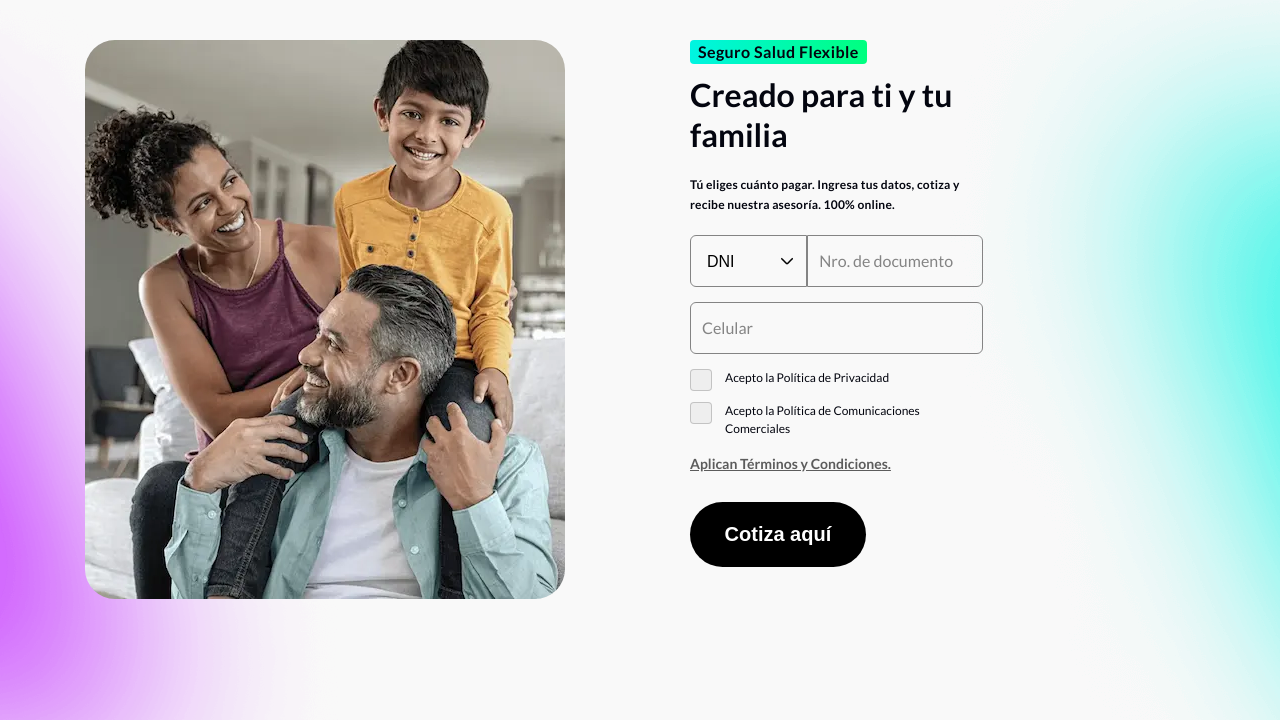
it: RegistrationForm › Validación del celular › debe mostrar error si el celular tiene menos de 9 dígitos al submit
Type "12345678" into the field labelled "Nro. de documento".
click(895, 261); type("12345678")  # box [807,235,983,287]
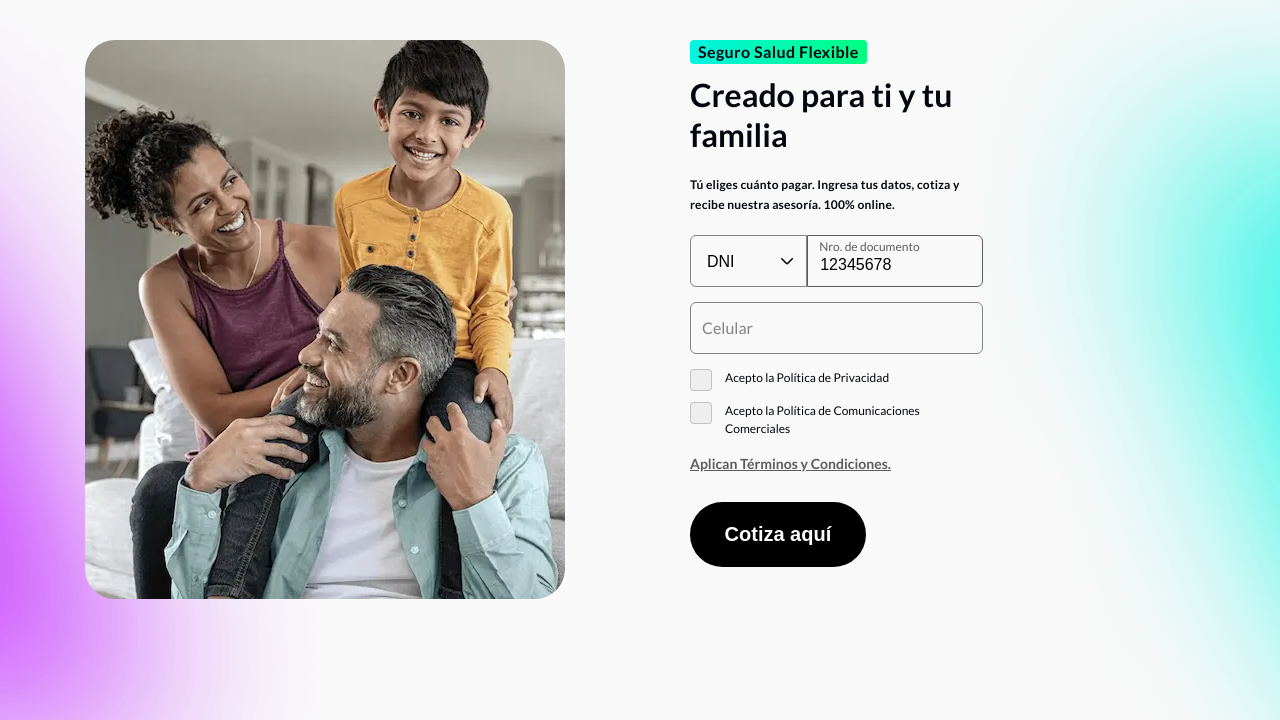
Type "98765432" into the field labelled "Celular".
click(836, 328); type("98765432")  # box [690,302,983,354]
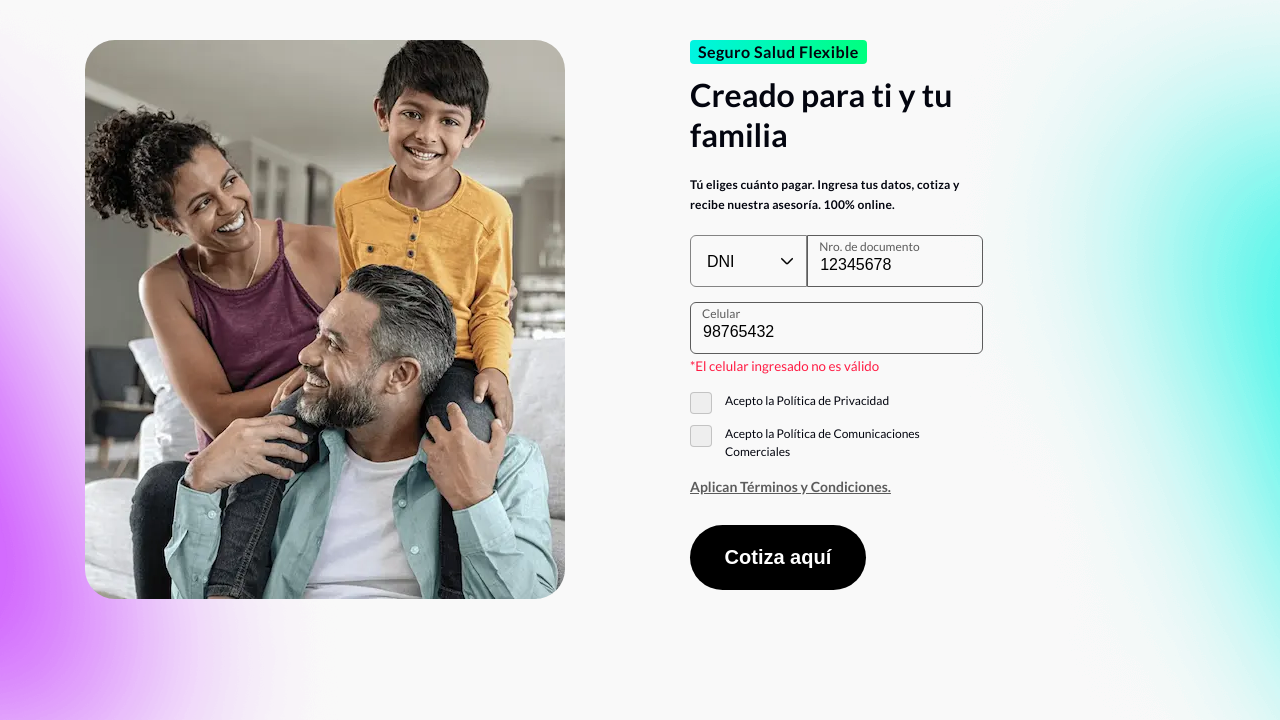
Click the checkbox labelled "Acepto la Política de Privacidad".
click(790, 403)  # box [690,392,889,414]
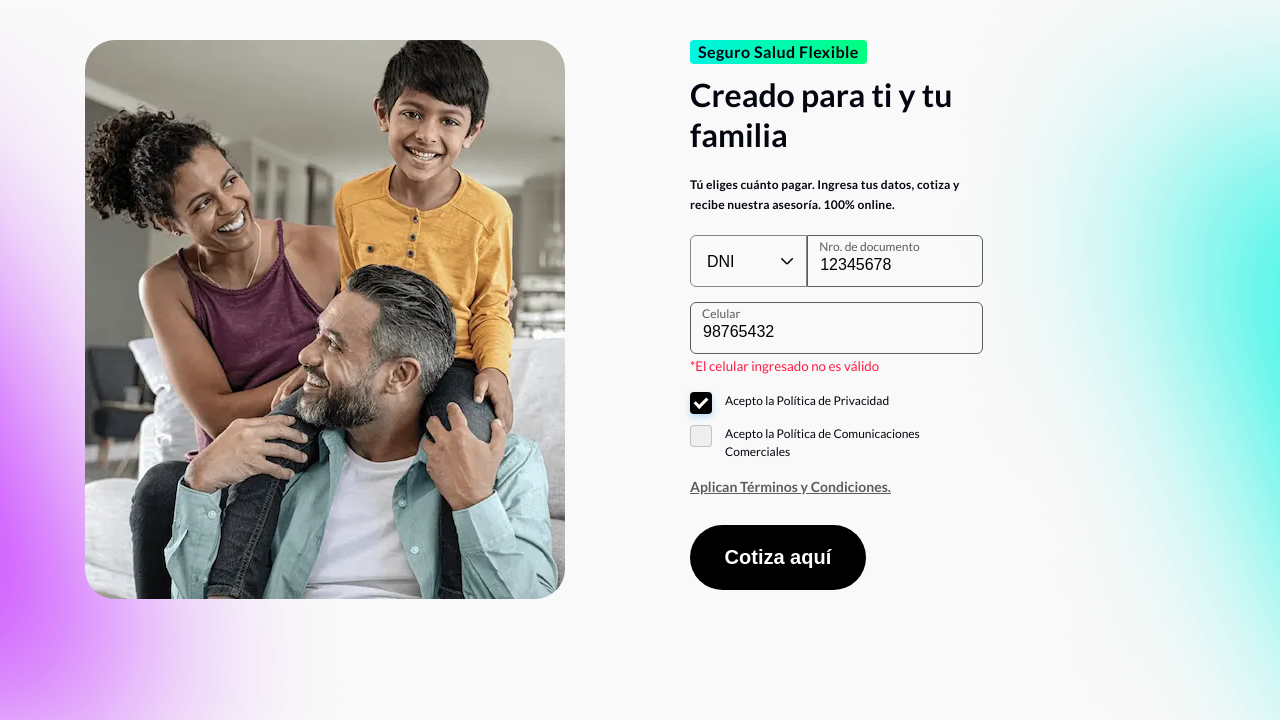
Click the checkbox labelled "Acepto la Política de Comunicaciones Comerciales".
click(805, 442)  # box [690,425,920,459]
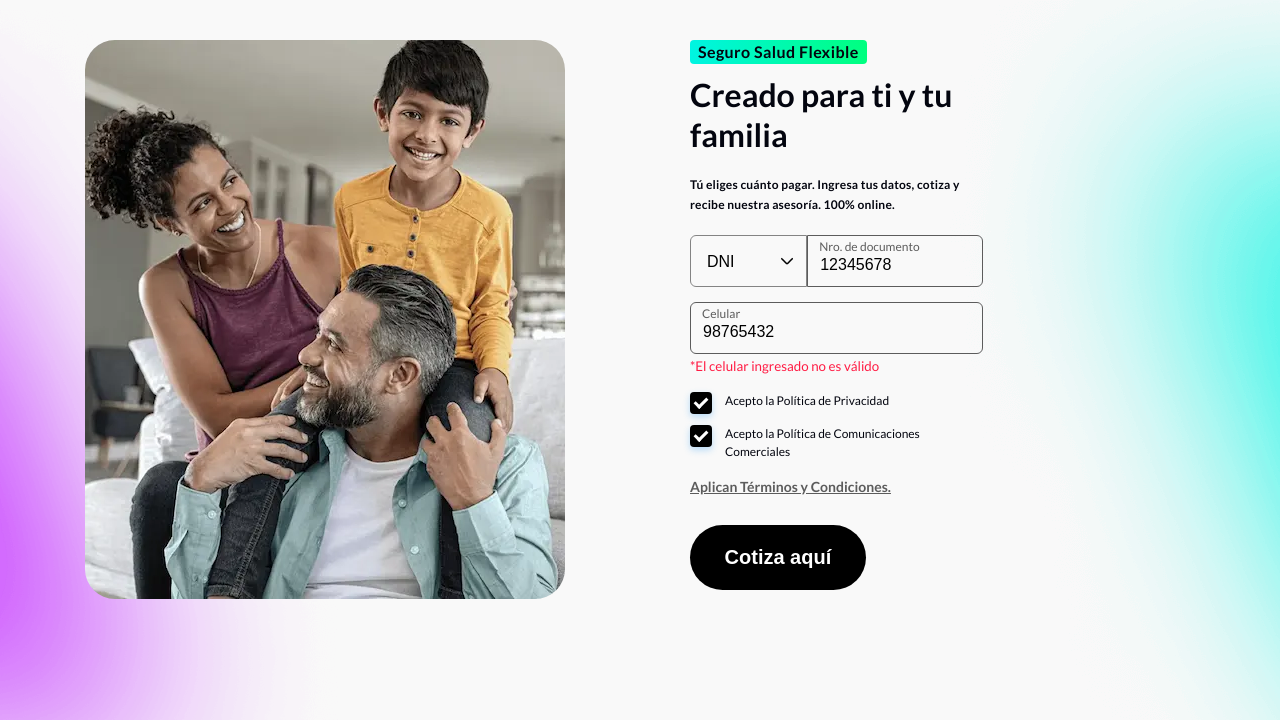
Click the button "Cotiza aquí".
click(778, 557)  # box [690,525,866,590]
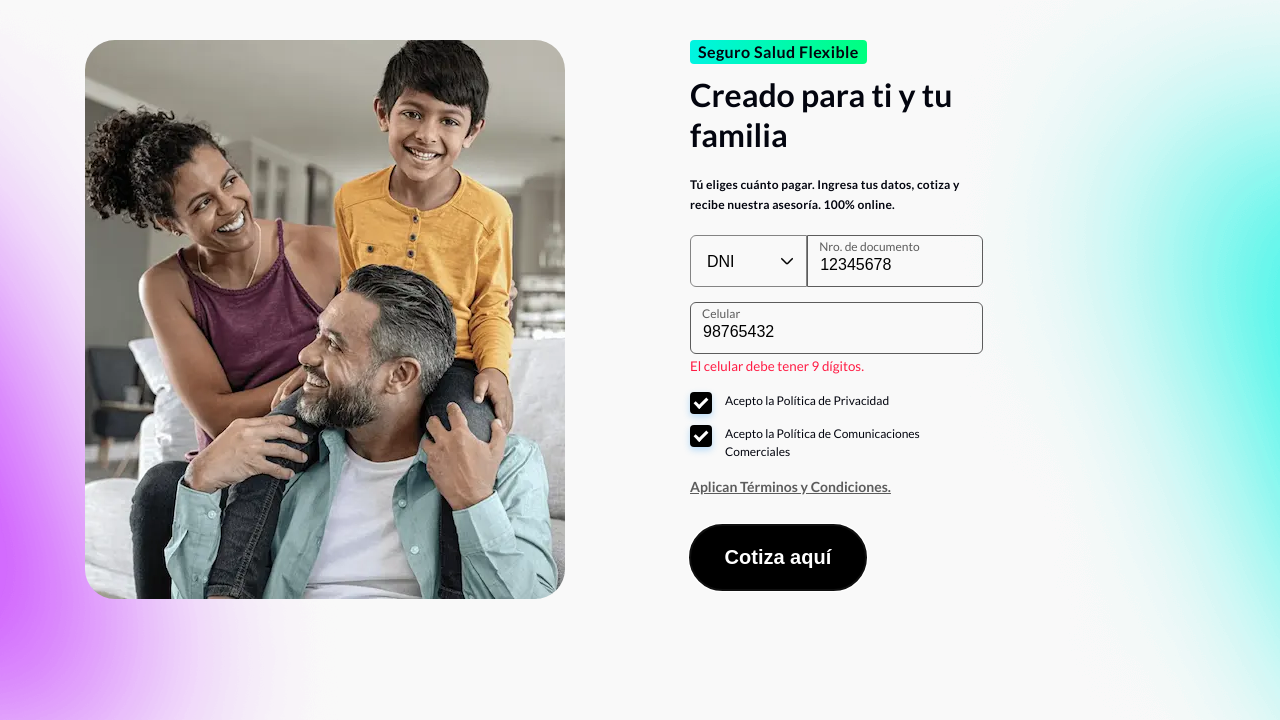
Now the text "El celular debe tener 9 dígitos." is shown, box [690,358,864,374]
